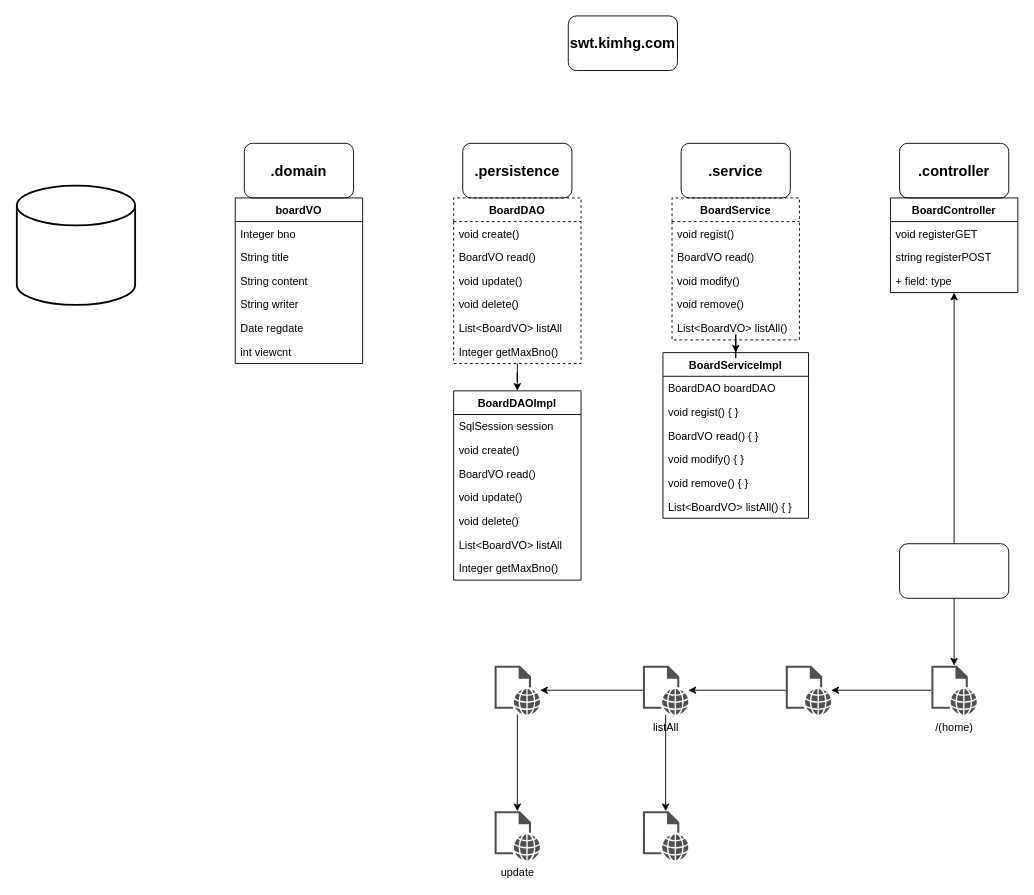
Image size: 1034x895. Some labels were removed from this diagram. Each missing label, with the centre of its shape:
"board" goes at pixel 808 689.
"Database" goes at pixel 75 244.
"read" goes at pixel 517 689.
"register" goes at pixel 665 835.
"view" goes at pixel 954 570.
